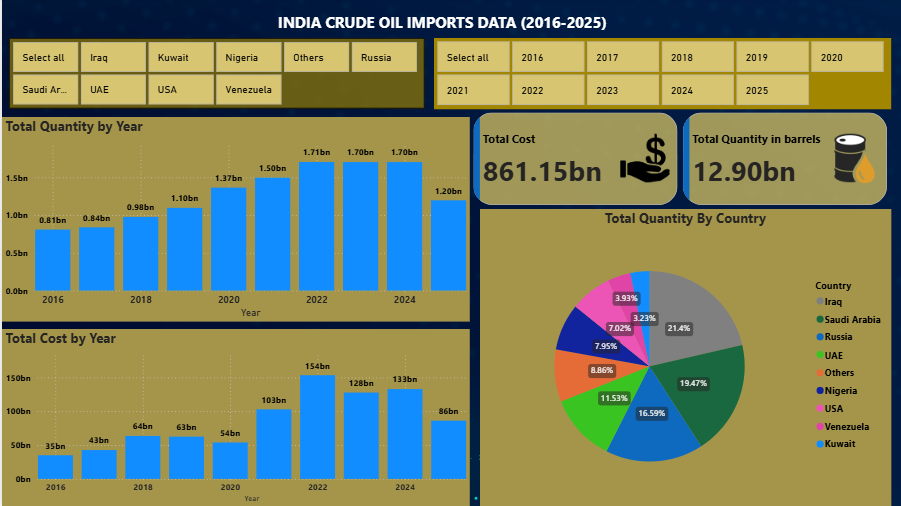

Layout of this report page (visuals, bound fields, positions):
{"tool":"powerbi","page":{"name":"India Dashboard","canvas":[1280,720],"ordinal":4},"visuals":[{"type":"advancedSlicerVisual","fields":{"Values":["Updated India Import.Month-Year.Variation.Date Hierarchy.Year"]},"box":[612.3,56.7,647.7,100.6],"z":0},{"type":"cardVisual","fields":{"Data":["Updated India Import.Total Cost","Updated India Import.Total Quantity"]},"box":[663.3,157.3,596.7,141.7],"z":1000},{"type":"advancedSlicerVisual","fields":{"Values":["Updated India Import.Country"]},"box":[10,57.1,588.6,100],"z":2000},{"type":"columnChart","title":"Total Quantity by Year","fields":{"Category":["Updated India Import.Month-Year.Variation.Date Hierarchy.Year","Updated India Import.Month-Year.Variation.Date Hierarchy.Quarter","Updated India Import.Month-Year.Variation.Date Hierarchy.Month","Updated India Import.Month-Year.Variation.Date Hierarchy.Day"],"Y":["Sum(Updated India Import.Volume(Barrels))"]},"box":[0,168.6,662.9,290],"z":3000},{"type":"columnChart","title":"Total Cost by Year","fields":{"Category":["Updated India Import.Month-Year.Variation.Date Hierarchy.Year","Updated India Import.Month-Year.Variation.Date Hierarchy.Quarter","Updated India Import.Month-Year.Variation.Date Hierarchy.Month","Updated India Import.Month-Year.Variation.Date Hierarchy.Day"],"Y":["Sum(Updated India Import.TotalCost(USD))"]},"box":[0,468.6,662.9,251.4],"z":4000},{"type":"pieChart","title":"Total Quantity By Country","fields":{"Y":["Updated India Import.Total Quantity"],"Category":["Updated India Import.Country"]},"box":[677.5,299.1,582.5,420.9],"z":5000},{"type":"textbox","box":[85.7,14.3,1078.6,42.9],"z":6000}]}

Visuals, with their boxes in screenshot pixels (x1, y1, x2, y2), scaled from the page's 1280x720 canvas onto the 901x506 screenshot:
advancedSlicerVisual - Updated India Import.Month-Year.Variation.Date Hierarchy.Year: (x1=431, y1=40, x2=887, y2=111)
cardVisual - Updated India Import.Total Cost x Updated India Import.Total Quantity: (x1=467, y1=111, x2=887, y2=210)
advancedSlicerVisual - Updated India Import.Country: (x1=7, y1=40, x2=421, y2=110)
"Total Quantity by Year" columnChart: (x1=0, y1=118, x2=467, y2=322)
"Total Cost by Year" columnChart: (x1=0, y1=329, x2=467, y2=505)
"Total Quantity By Country" pieChart: (x1=477, y1=210, x2=887, y2=505)
textbox: (x1=60, y1=10, x2=820, y2=40)
